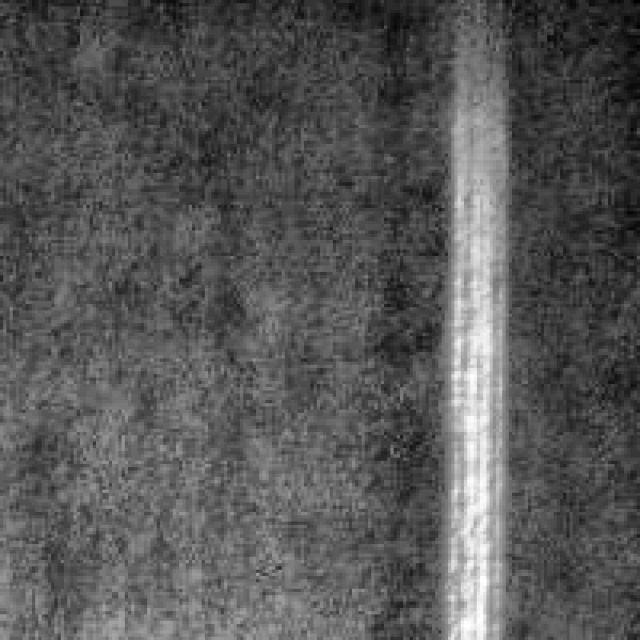Inclusion: (429, 115, 509, 630)
